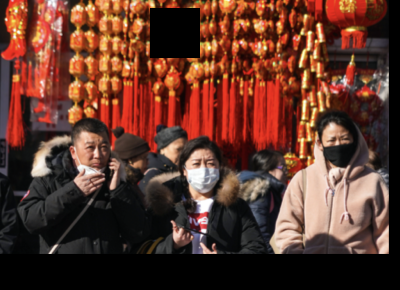mask_weared_incorrect: (75, 135, 109, 176)
with_mask: (321, 128, 356, 165), (184, 156, 217, 192)
without_mask: (130, 152, 148, 173), (270, 162, 286, 183)
